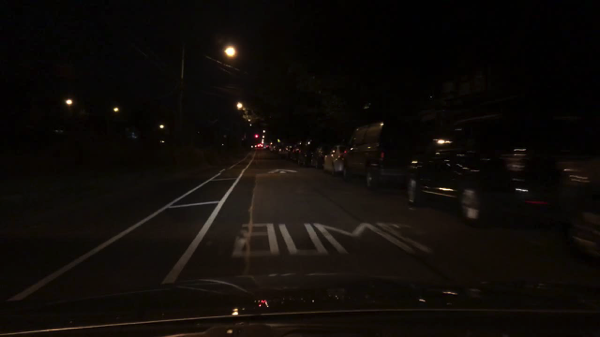car: (405, 114, 565, 228), (342, 121, 441, 190), (555, 135, 599, 262), (295, 138, 326, 167), (310, 142, 333, 171), (322, 145, 345, 174), (288, 142, 305, 162), (276, 142, 292, 161), (267, 142, 279, 155), (263, 144, 270, 151), (255, 142, 263, 148)
traffic light: (254, 133, 257, 140)
